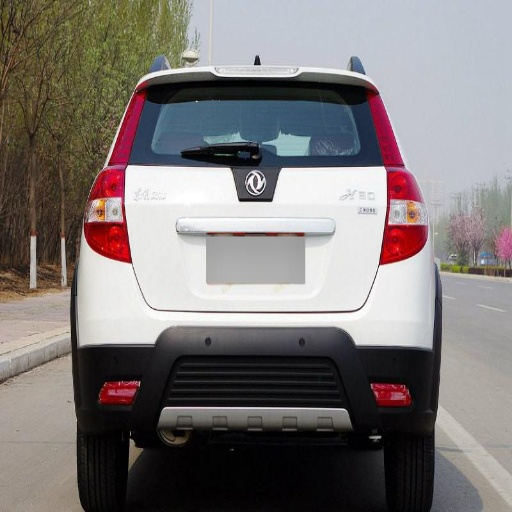back_bumper: (75, 246, 439, 435)
tailgate: (122, 164, 385, 306)
trunk: (129, 165, 389, 302)
